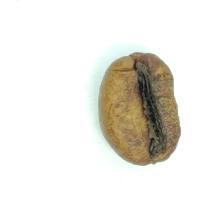NG: (128, 54, 181, 163)
